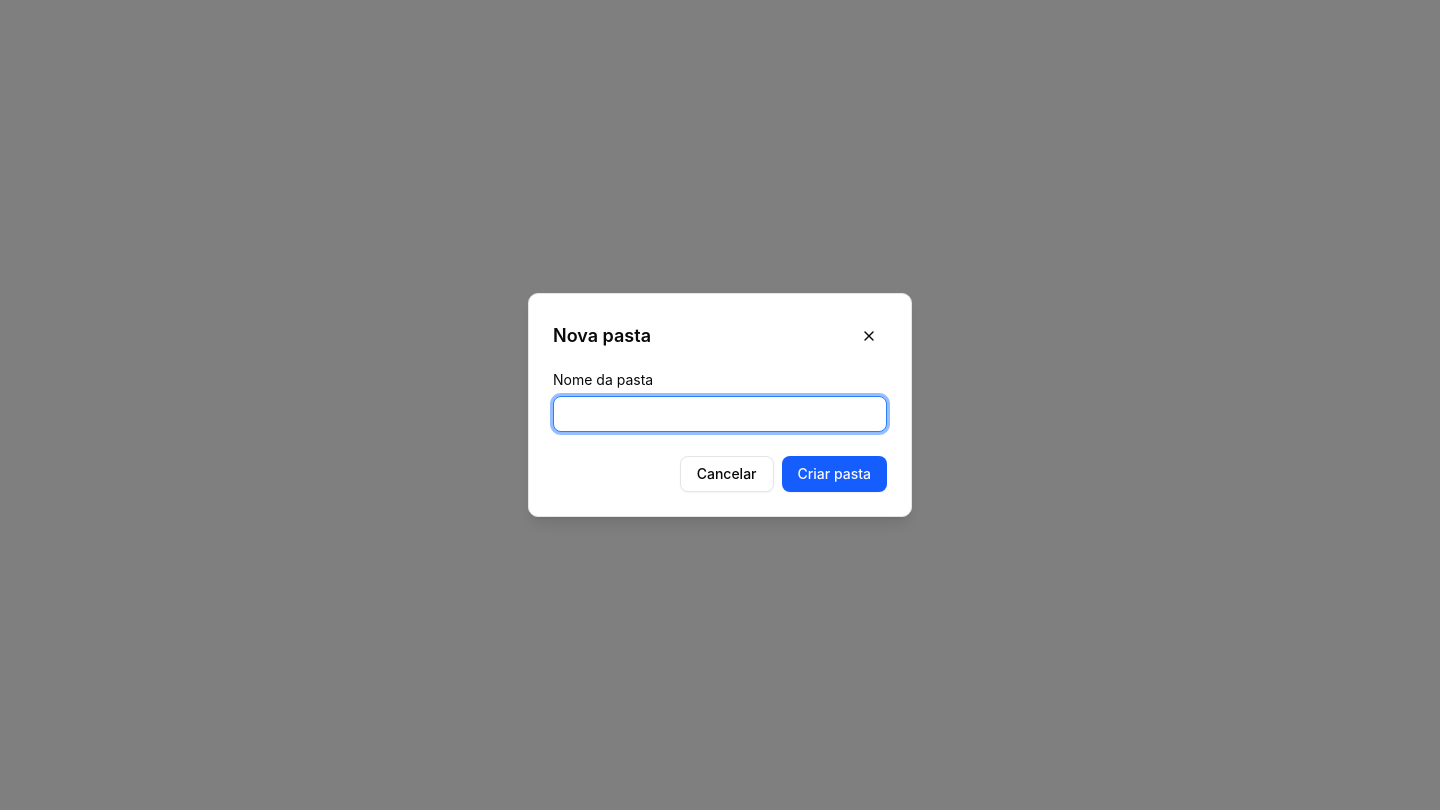
it: FolderNameDialog spelling › points out a misspelled word typed in the folder name
The width and height of the screenshot is (1440, 810).
Type "Procesos internos" into the field labelled "Nome da pasta" at (720, 414), box [553,396,887,432]
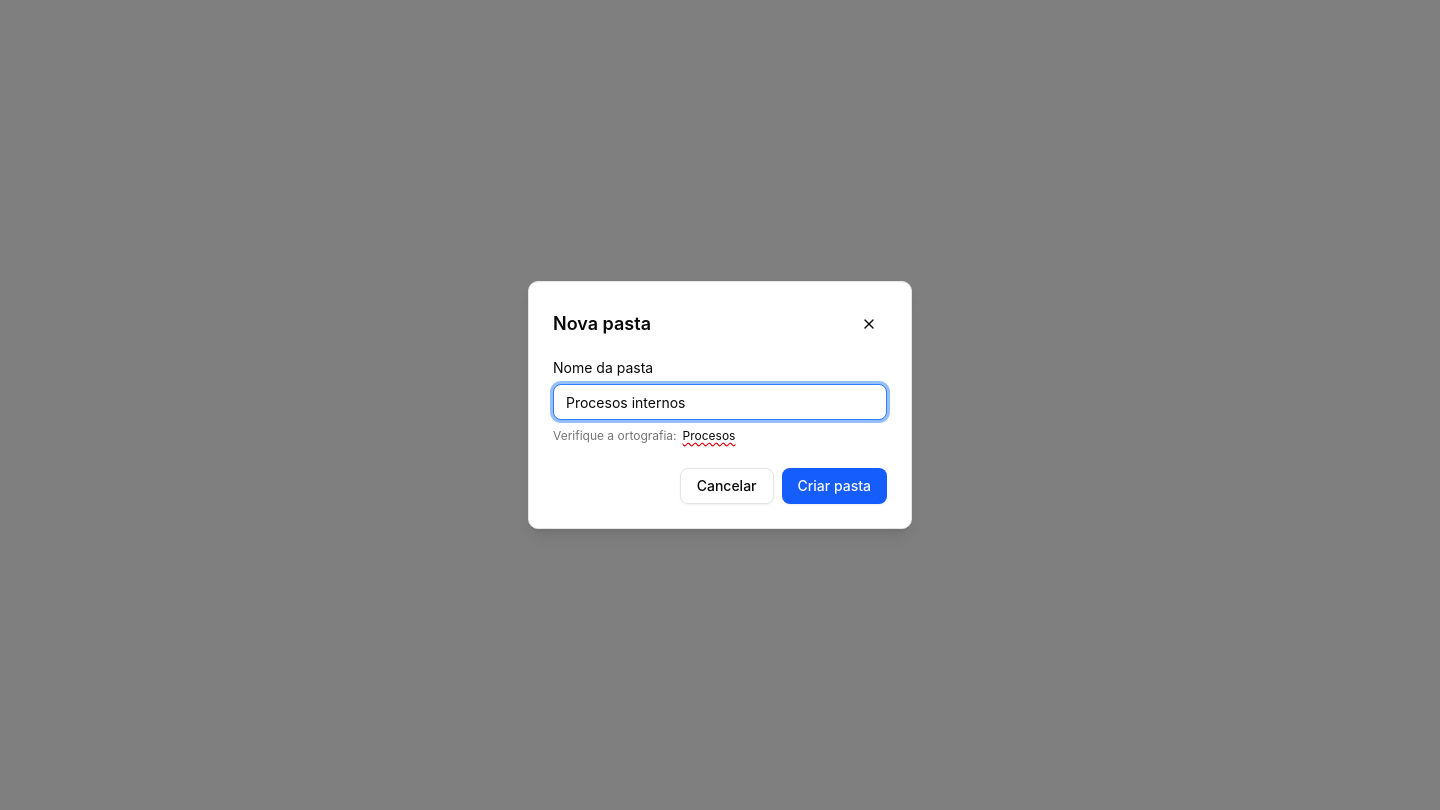
Now the button "Procesos" is shown, box [682,428,735,444]
